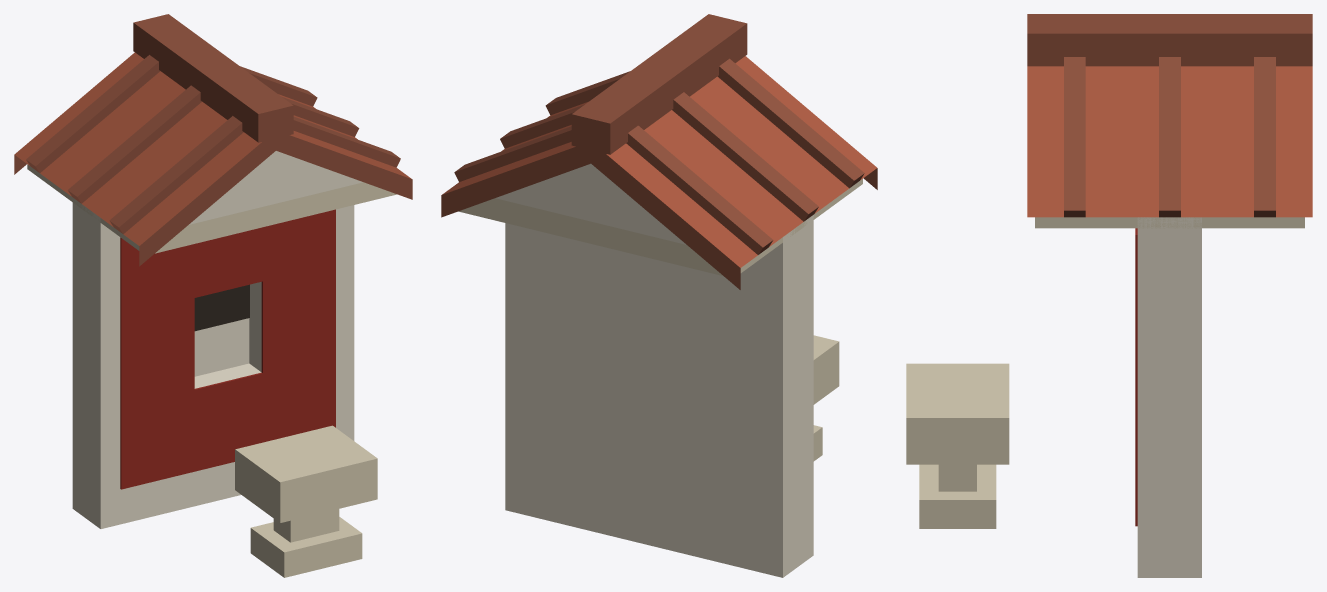
The model's file is rome_compitum.glb.
The picture shows the model from 3 angles, left to right: view 1: azimuth 30°, elevation 25°; view 2: azimuth 150°, elevation 25°; view 3: azimuth 270°, elevation 25°; orthographic projection. The views are drawn at different scales.
Visible parts, largest first — view 1: rome_compitum; view 2: rome_compitum; view 3: rome_compitum.
Part boxes in pixels (x1,y1,x2,y2): rome_compitum: (14,14,412,577); rome_compitum: (441,14,877,577); rome_compitum: (906,14,1312,577).
Size of the model in its own units: 2.89 by 4.15 by 3.16.
